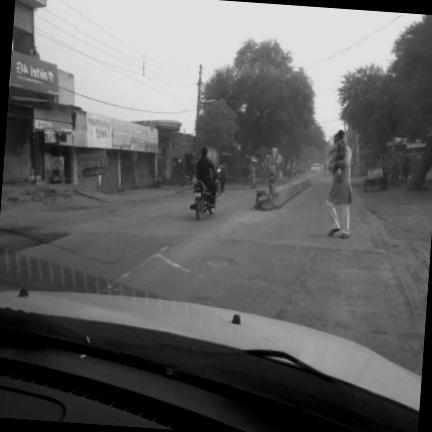Road: (22, 177, 423, 374)
